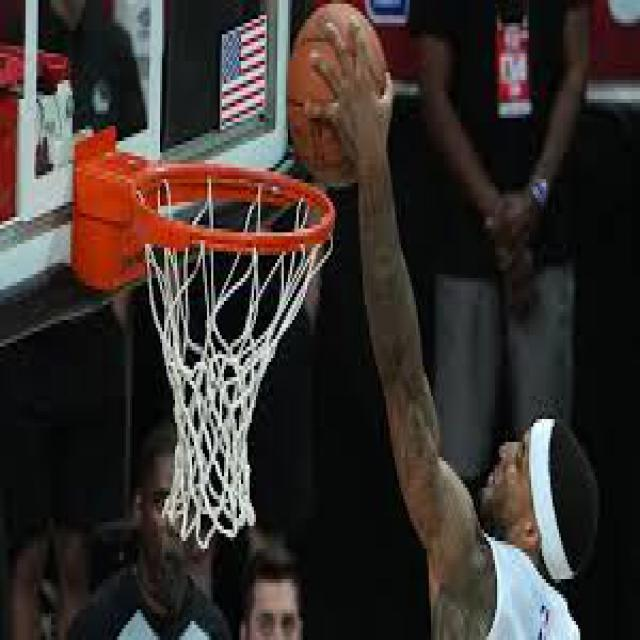basketball: (286, 3, 390, 190)
rim: (120, 164, 338, 255)
